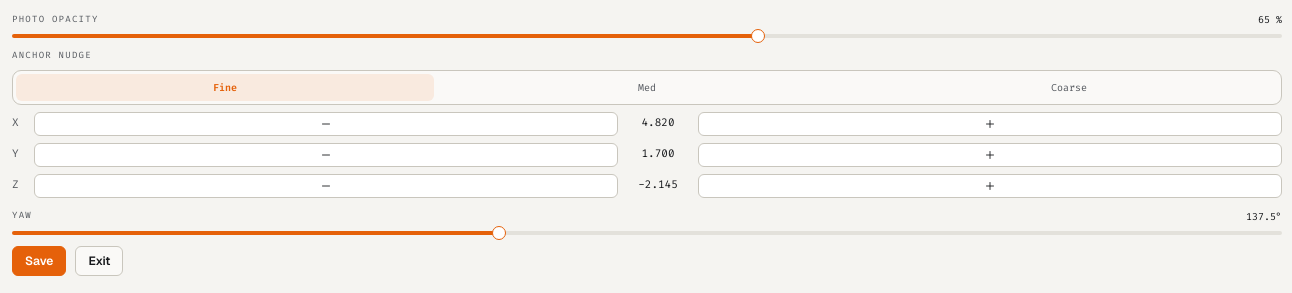
Test: CalibrationCard · tooltip › names each nudge arrow in a tooltip
The width and height of the screenshot is (1292, 293).
Hover over the button named "Decrease X" at (326, 124), box [34,112,618,136]
Wait 500 ms
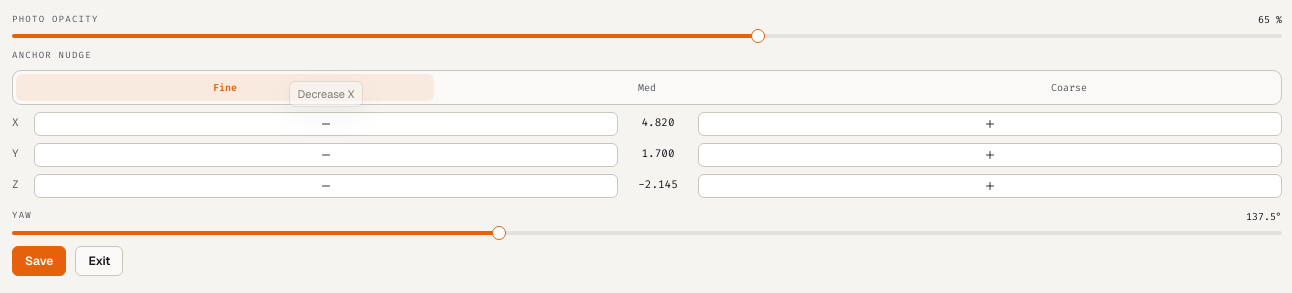
Move the pointer off the button named "Decrease X", box [34,112,618,136]
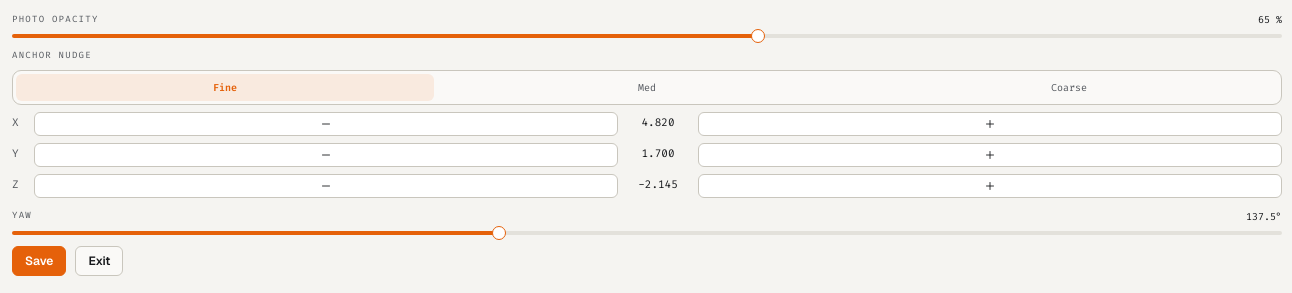
Hover over the button named "Increase Z" at (990, 186), box [698,174,1282,198]
Wait 500 ms
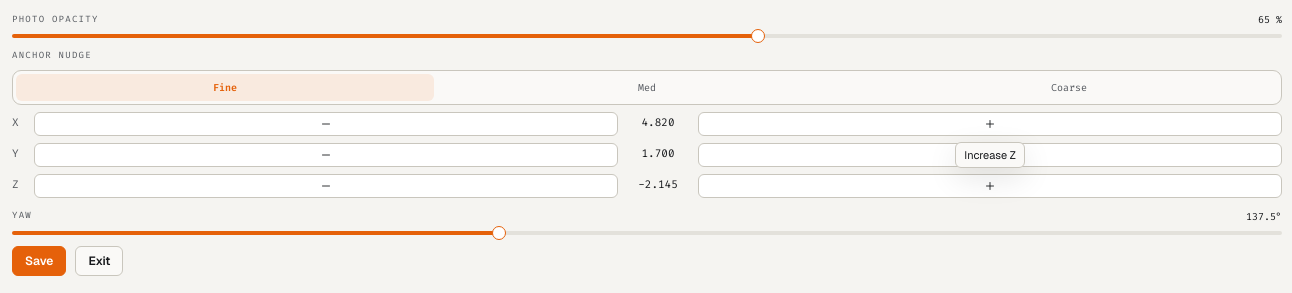
Expected: the tooltip reads "Increase Z", [964,148,1016,162]
